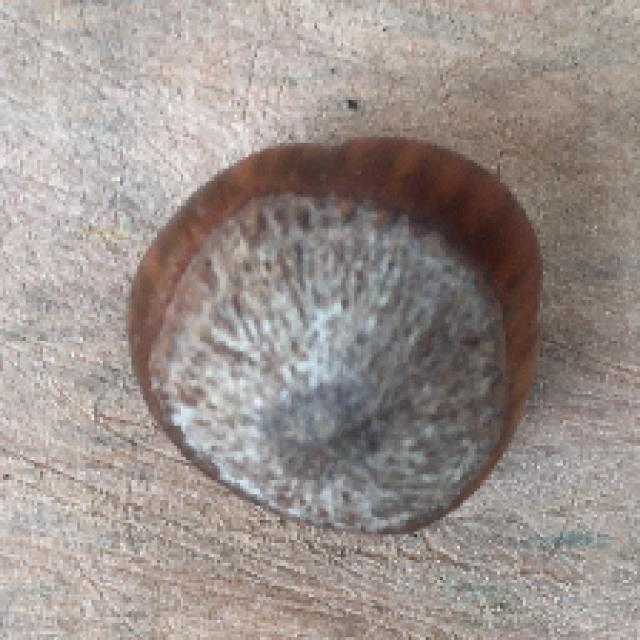damagedHazelnut: (124, 131, 550, 551)
